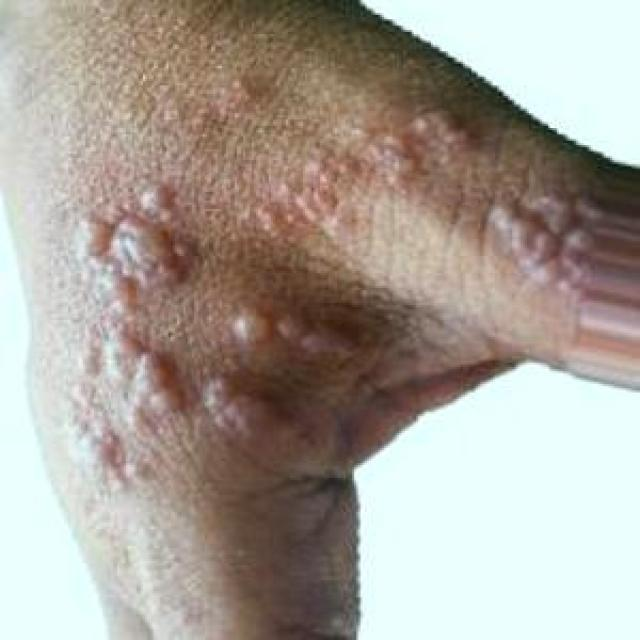Shingles: (61, 181, 192, 493), (231, 92, 473, 237), (486, 176, 586, 306), (223, 302, 361, 365), (194, 366, 286, 449)
